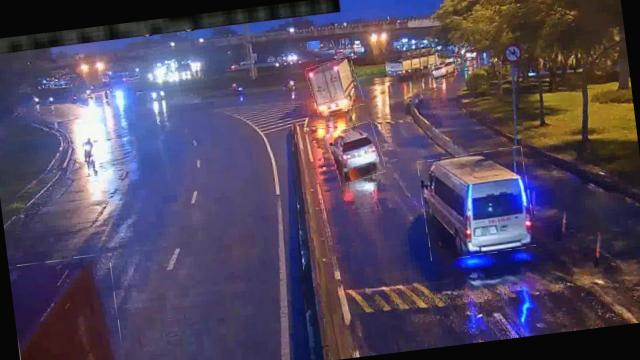Bike: (80, 137, 94, 163)
Bus: (416, 146, 536, 260)
Car: (326, 122, 384, 184), (429, 58, 458, 80)
Truck: (9, 253, 127, 360), (306, 56, 363, 115)
